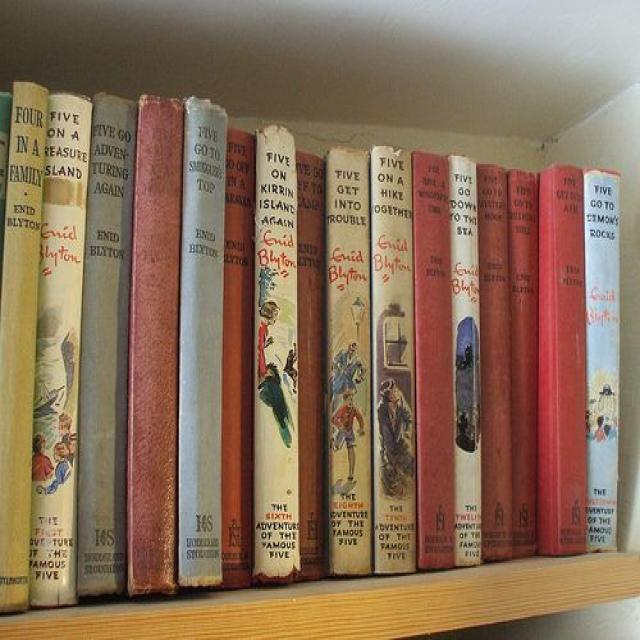book: (29, 94, 92, 607), (77, 94, 137, 597), (125, 94, 185, 595), (0, 81, 46, 612), (177, 98, 227, 586), (254, 131, 301, 583), (326, 149, 374, 574), (372, 145, 417, 574), (411, 150, 455, 568), (543, 165, 586, 553), (223, 125, 255, 590), (448, 155, 483, 566), (478, 162, 514, 560), (295, 151, 327, 579), (584, 170, 619, 551), (507, 169, 539, 558)
